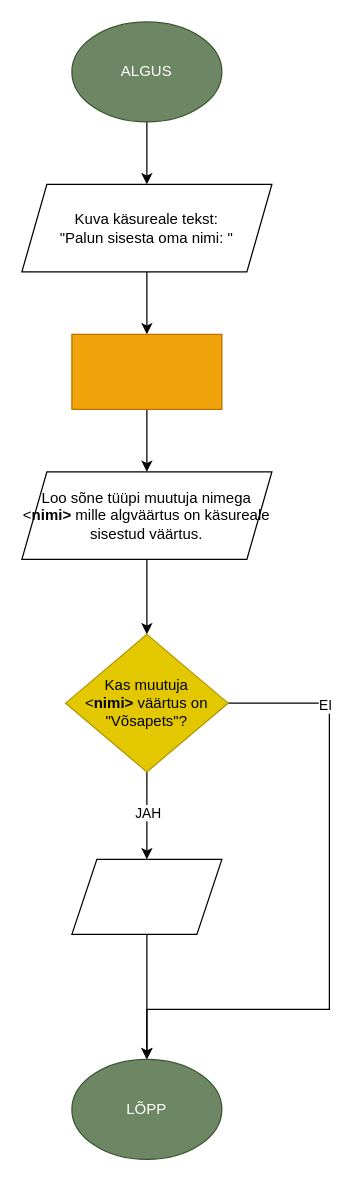
This 361x1181 diagram has some shape labels left out. Each missing label, with the centre of its shape:
Kuva tekst: "Mine võssa tagasi.": point (146, 896)
Oota kuni kasutaja sisestab käsureale väärtuse.: point (146, 371)
